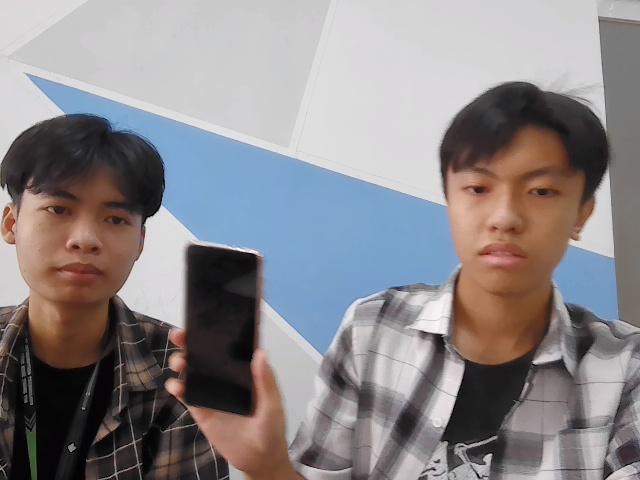human: (437, 80, 610, 302), (2, 116, 167, 310)
phone: (178, 236, 268, 421)
